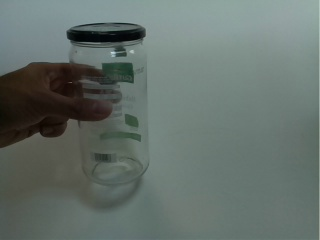pote cristal: (64, 19, 156, 190)
